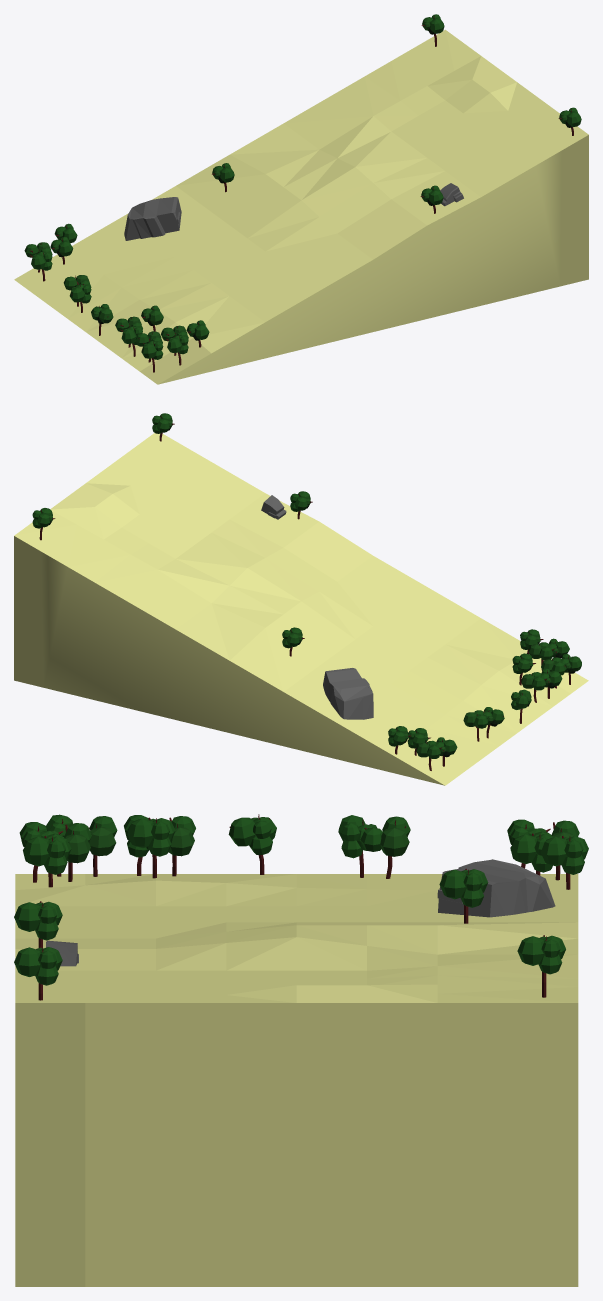
The model's file is slide.FBX.
3 renders of one model, top to bottom at view 1: azimuth 30°, elevation 25°; view 2: azimuth 150°, elevation 25°; view 3: azimuth 270°, elevation 25°, orthographic. The views are drawn at different scales.
Visible parts, largest first — view 1: slide, tree, rock; view 2: slide, tree, rock; view 3: slide, tree, rock.
Boxes of the visible parts, left/top/right/bottom form: slide: left=14, top=29, right=588, bottom=384; tree: left=24, top=14, right=581, bottom=372; rock: left=124, top=183, right=463, bottom=240; slide: left=14, top=433, right=588, bottom=785; tree: left=32, top=413, right=581, bottom=770; rock: left=261, top=495, right=373, bottom=719; slide: left=15, top=874, right=578, bottom=1286; tree: left=14, top=814, right=588, bottom=1000; rock: left=46, top=859, right=555, bottom=966.
Size of the model in its own units: 2741 by 1020 by 1599.
